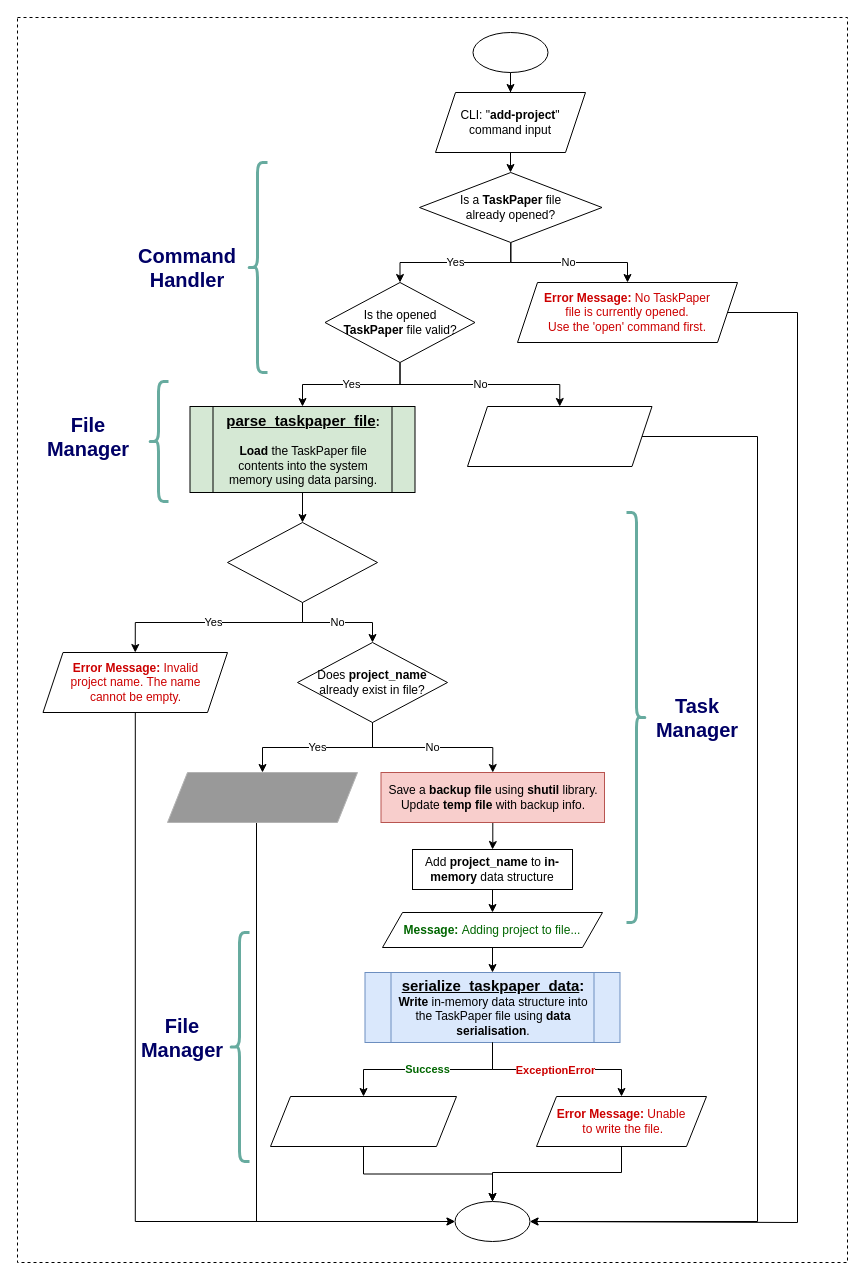
This 865x1280 diagram has some shape labels left out. Here are the shapes that lost their labels. From the top down, the centre of each, then its label:
At (510,52): "Start".
At (559,436): "Error Message: The file does not exist. Please use the 'open' command first.".
At (302,562): "Is project_name empty?".
At (262,797): "Warning Message: Project name already exists.".
At (363,1121): "Message: Added project s uccessfully.".
At (492,1221): "End".
